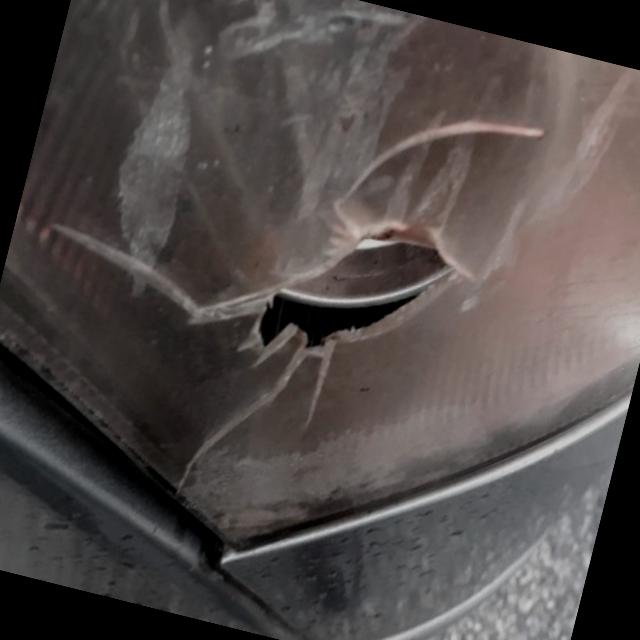Phare abime: (35, 20, 597, 441)
